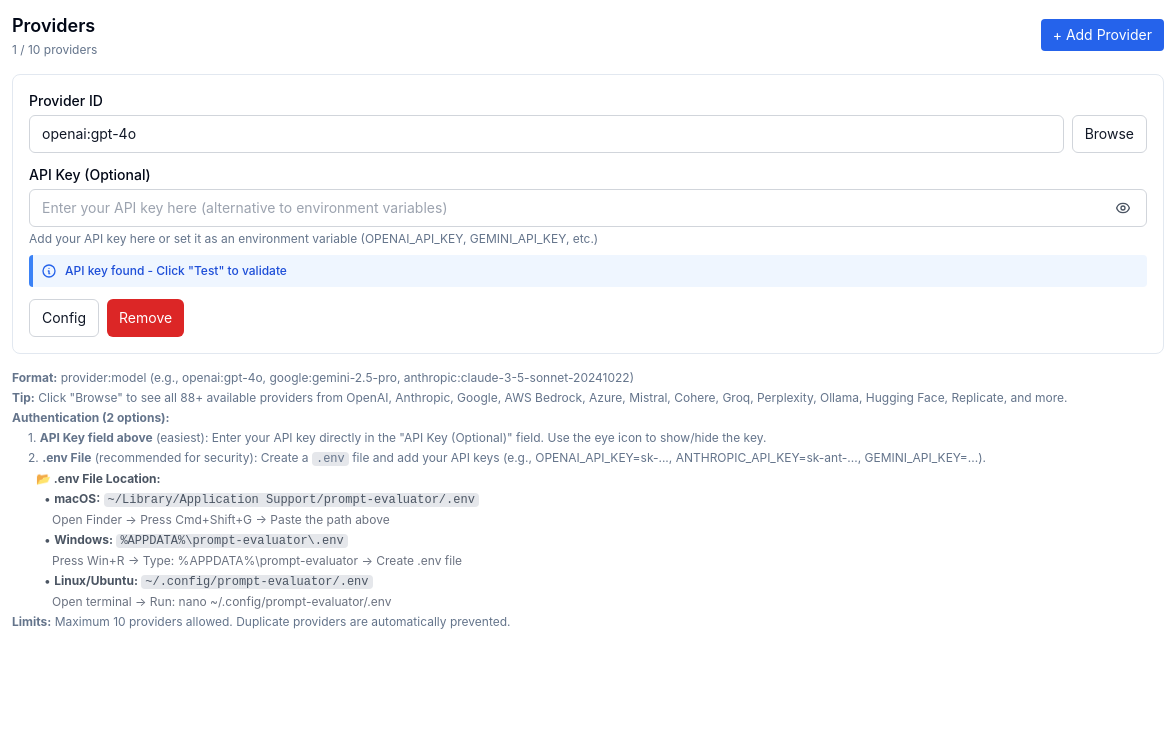
Scenario: ProvidersForm › Removing Providers › should show success toast after removing
This screenshot has width=1176, height=732.
Click the button "Remove". click: coordinates (146, 318)
box: [107,299,184,337]
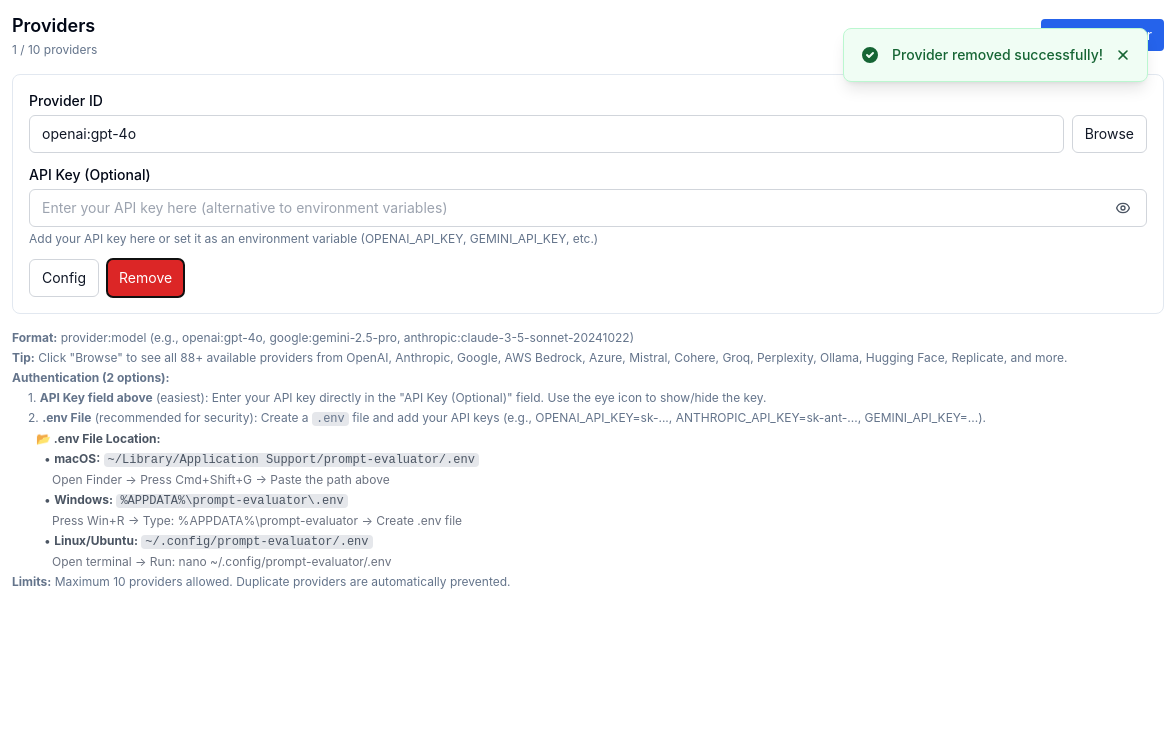
Check: the text "Provider removed successfully!" is shown, box [892,45,1103,65]
